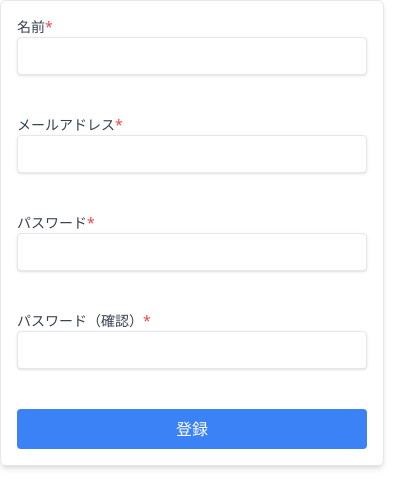
Test case: SignUpForm › should reject empty form
This screenshot has width=402, height=487.
What coordinates should you click on to do the following:
click the button with test id "signup-submit"
I would click on:
 (192, 429)
Its box is [17,409,367,449].
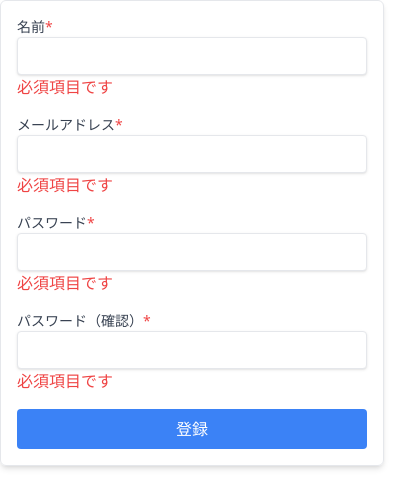
Check: the text with test id "error-signup-name" reads "必須項目です", box [17,76,113,98]
Check: the text with test id "error-signup-email" reads "必須項目です", box [17,174,113,196]
Check: the text with test id "error-signup-password" reads "必須項目です", box [17,272,113,294]
